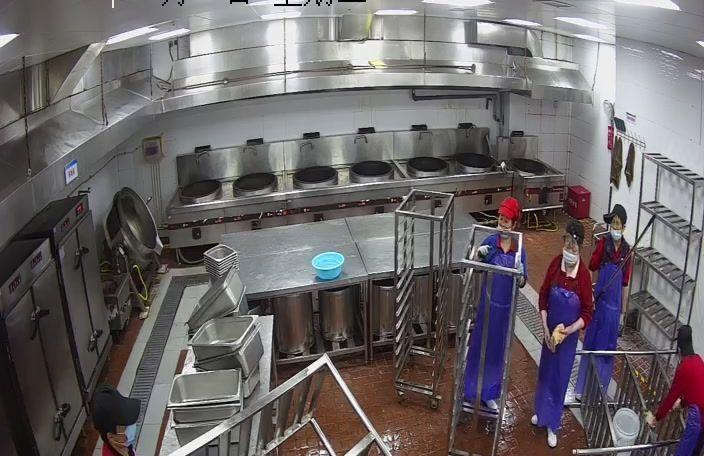mask: (496, 213, 516, 240), (609, 224, 625, 240)
